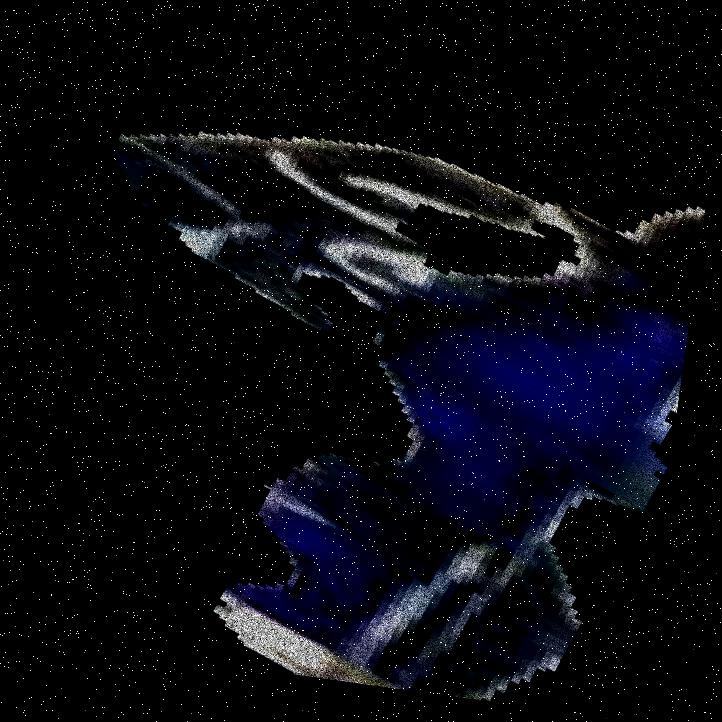Pessoa: (398, 0, 721, 721)
